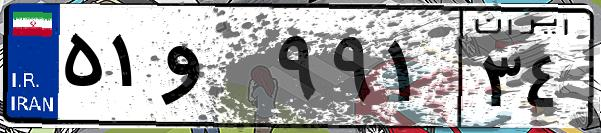1: (385, 28, 445, 110), (110, 28, 158, 98)
3: (475, 38, 525, 113)
4: (525, 38, 570, 115)
5: (57, 26, 110, 100)
9: (270, 28, 330, 110), (330, 28, 385, 110)
و: (158, 20, 270, 120)
